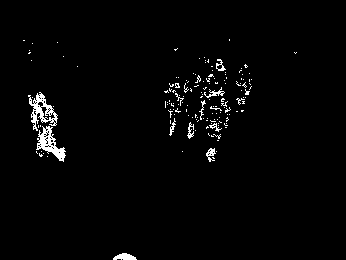person: (27, 91, 67, 161), (200, 81, 231, 163), (178, 71, 203, 140), (162, 76, 182, 137), (235, 62, 254, 116)
